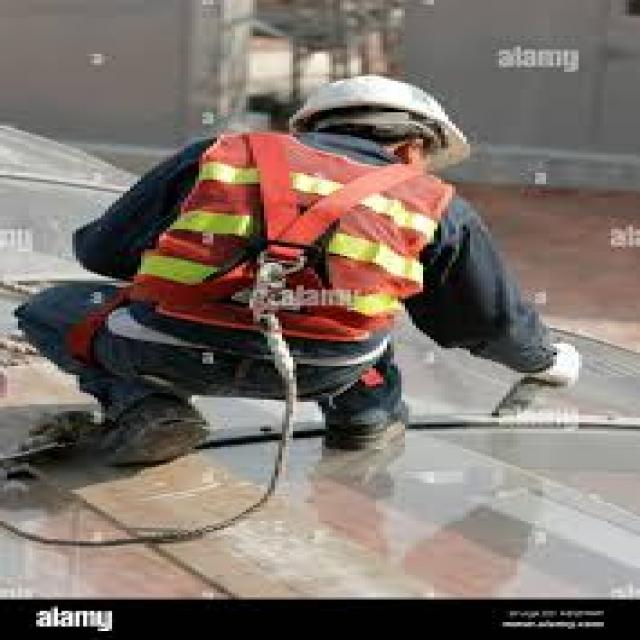Reflective-Jacket: (83, 132, 485, 355)
Safety-Helmet: (256, 65, 502, 162)
